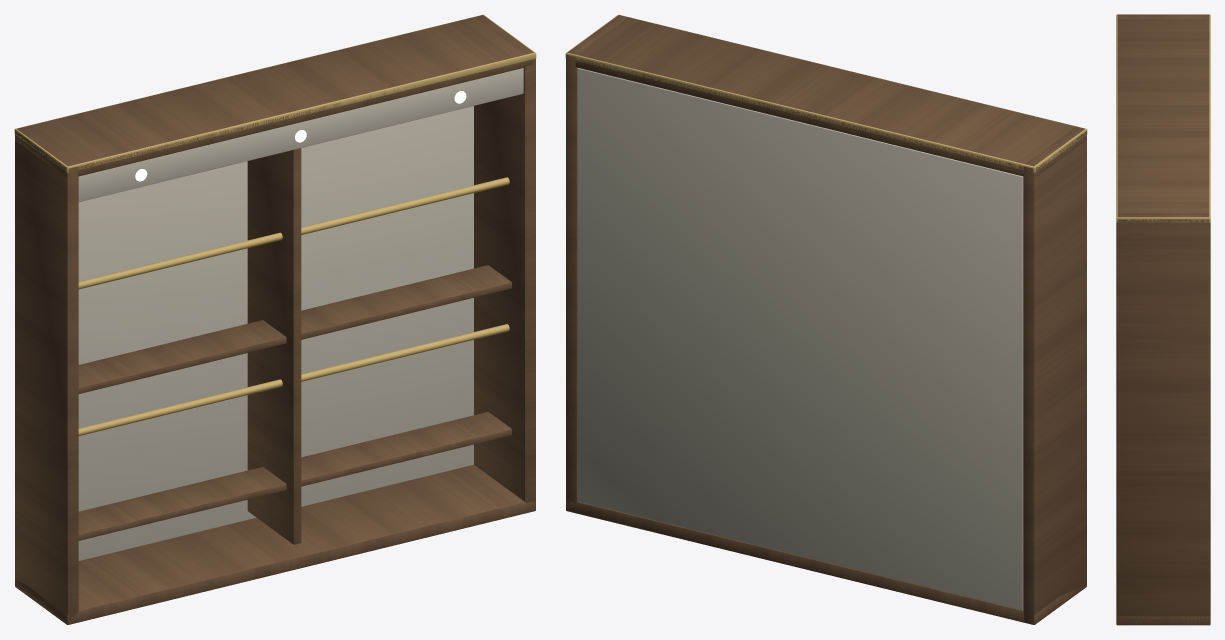
File: pf_display_golf_club_wall_t4.glb
3 views of the same model, side by side, from view 1: azimuth 30°, elevation 25°; view 2: azimuth 150°, elevation 25°; view 3: azimuth 270°, elevation 25° (orthographic). The views are drawn at different scales.
Visible parts, largest first — view 1: Case_Back, Case_Left, Case_Top, Case_Base, Case_Right, Millwork_Divider_01, Club_Head_Tray_1, Club_Head_Tray_2, Header_Back, Crown_Trim, Club_Support_Rail_1, Club_Support_Rail_2; view 2: Case_Back, Case_Left, Case_Top, Case_Base, Case_Right, Crown_Trim; view 3: Case_Right, Case_Top, Crown_Trim, Case_Base, Case_Left.
Boxes of the visible parts, x1=… form: Case_Back: x1=78, y1=106, x2=473, y2=560; Case_Left: x1=15, y1=127, x2=78, y2=622; Case_Top: x1=15, y1=17, x2=533, y2=177; Case_Base: x1=15, y1=465, x2=535, y2=624; Case_Right: x1=474, y1=15, x2=535, y2=513; Millwork_Divider_01: x1=247, y1=148, x2=301, y2=544; Club_Head_Tray_1: x1=78, y1=265, x2=511, y2=393; Club_Head_Tray_2: x1=78, y1=412, x2=511, y2=540; Header_Back: x1=78, y1=68, x2=523, y2=201; Crown_Trim: x1=14, y1=14, x2=536, y2=173; Club_Support_Rail_1: x1=78, y1=177, x2=509, y2=289; Club_Support_Rail_2: x1=78, y1=324, x2=509, y2=435; Case_Back: x1=577, y1=68, x2=1023, y2=609; Case_Left: x1=1023, y1=126, x2=1086, y2=624; Case_Top: x1=566, y1=17, x2=1086, y2=177; Case_Base: x1=566, y1=501, x2=1086, y2=624; Case_Right: x1=566, y1=15, x2=627, y2=511; Crown_Trim: x1=565, y1=14, x2=1087, y2=173; Case_Right: x1=1116, y1=213, x2=1210, y2=625; Case_Top: x1=1117, y1=18, x2=1210, y2=227; Crown_Trim: x1=1116, y1=14, x2=1210, y2=222; Case_Base: x1=1116, y1=616, x2=1210, y2=624; Case_Left: x1=1117, y1=14, x2=1209, y2=18.
Size of the model in its own units: 2.55 by 2.38 by 0.5.
Materials: 5 (1 with a texture image).
